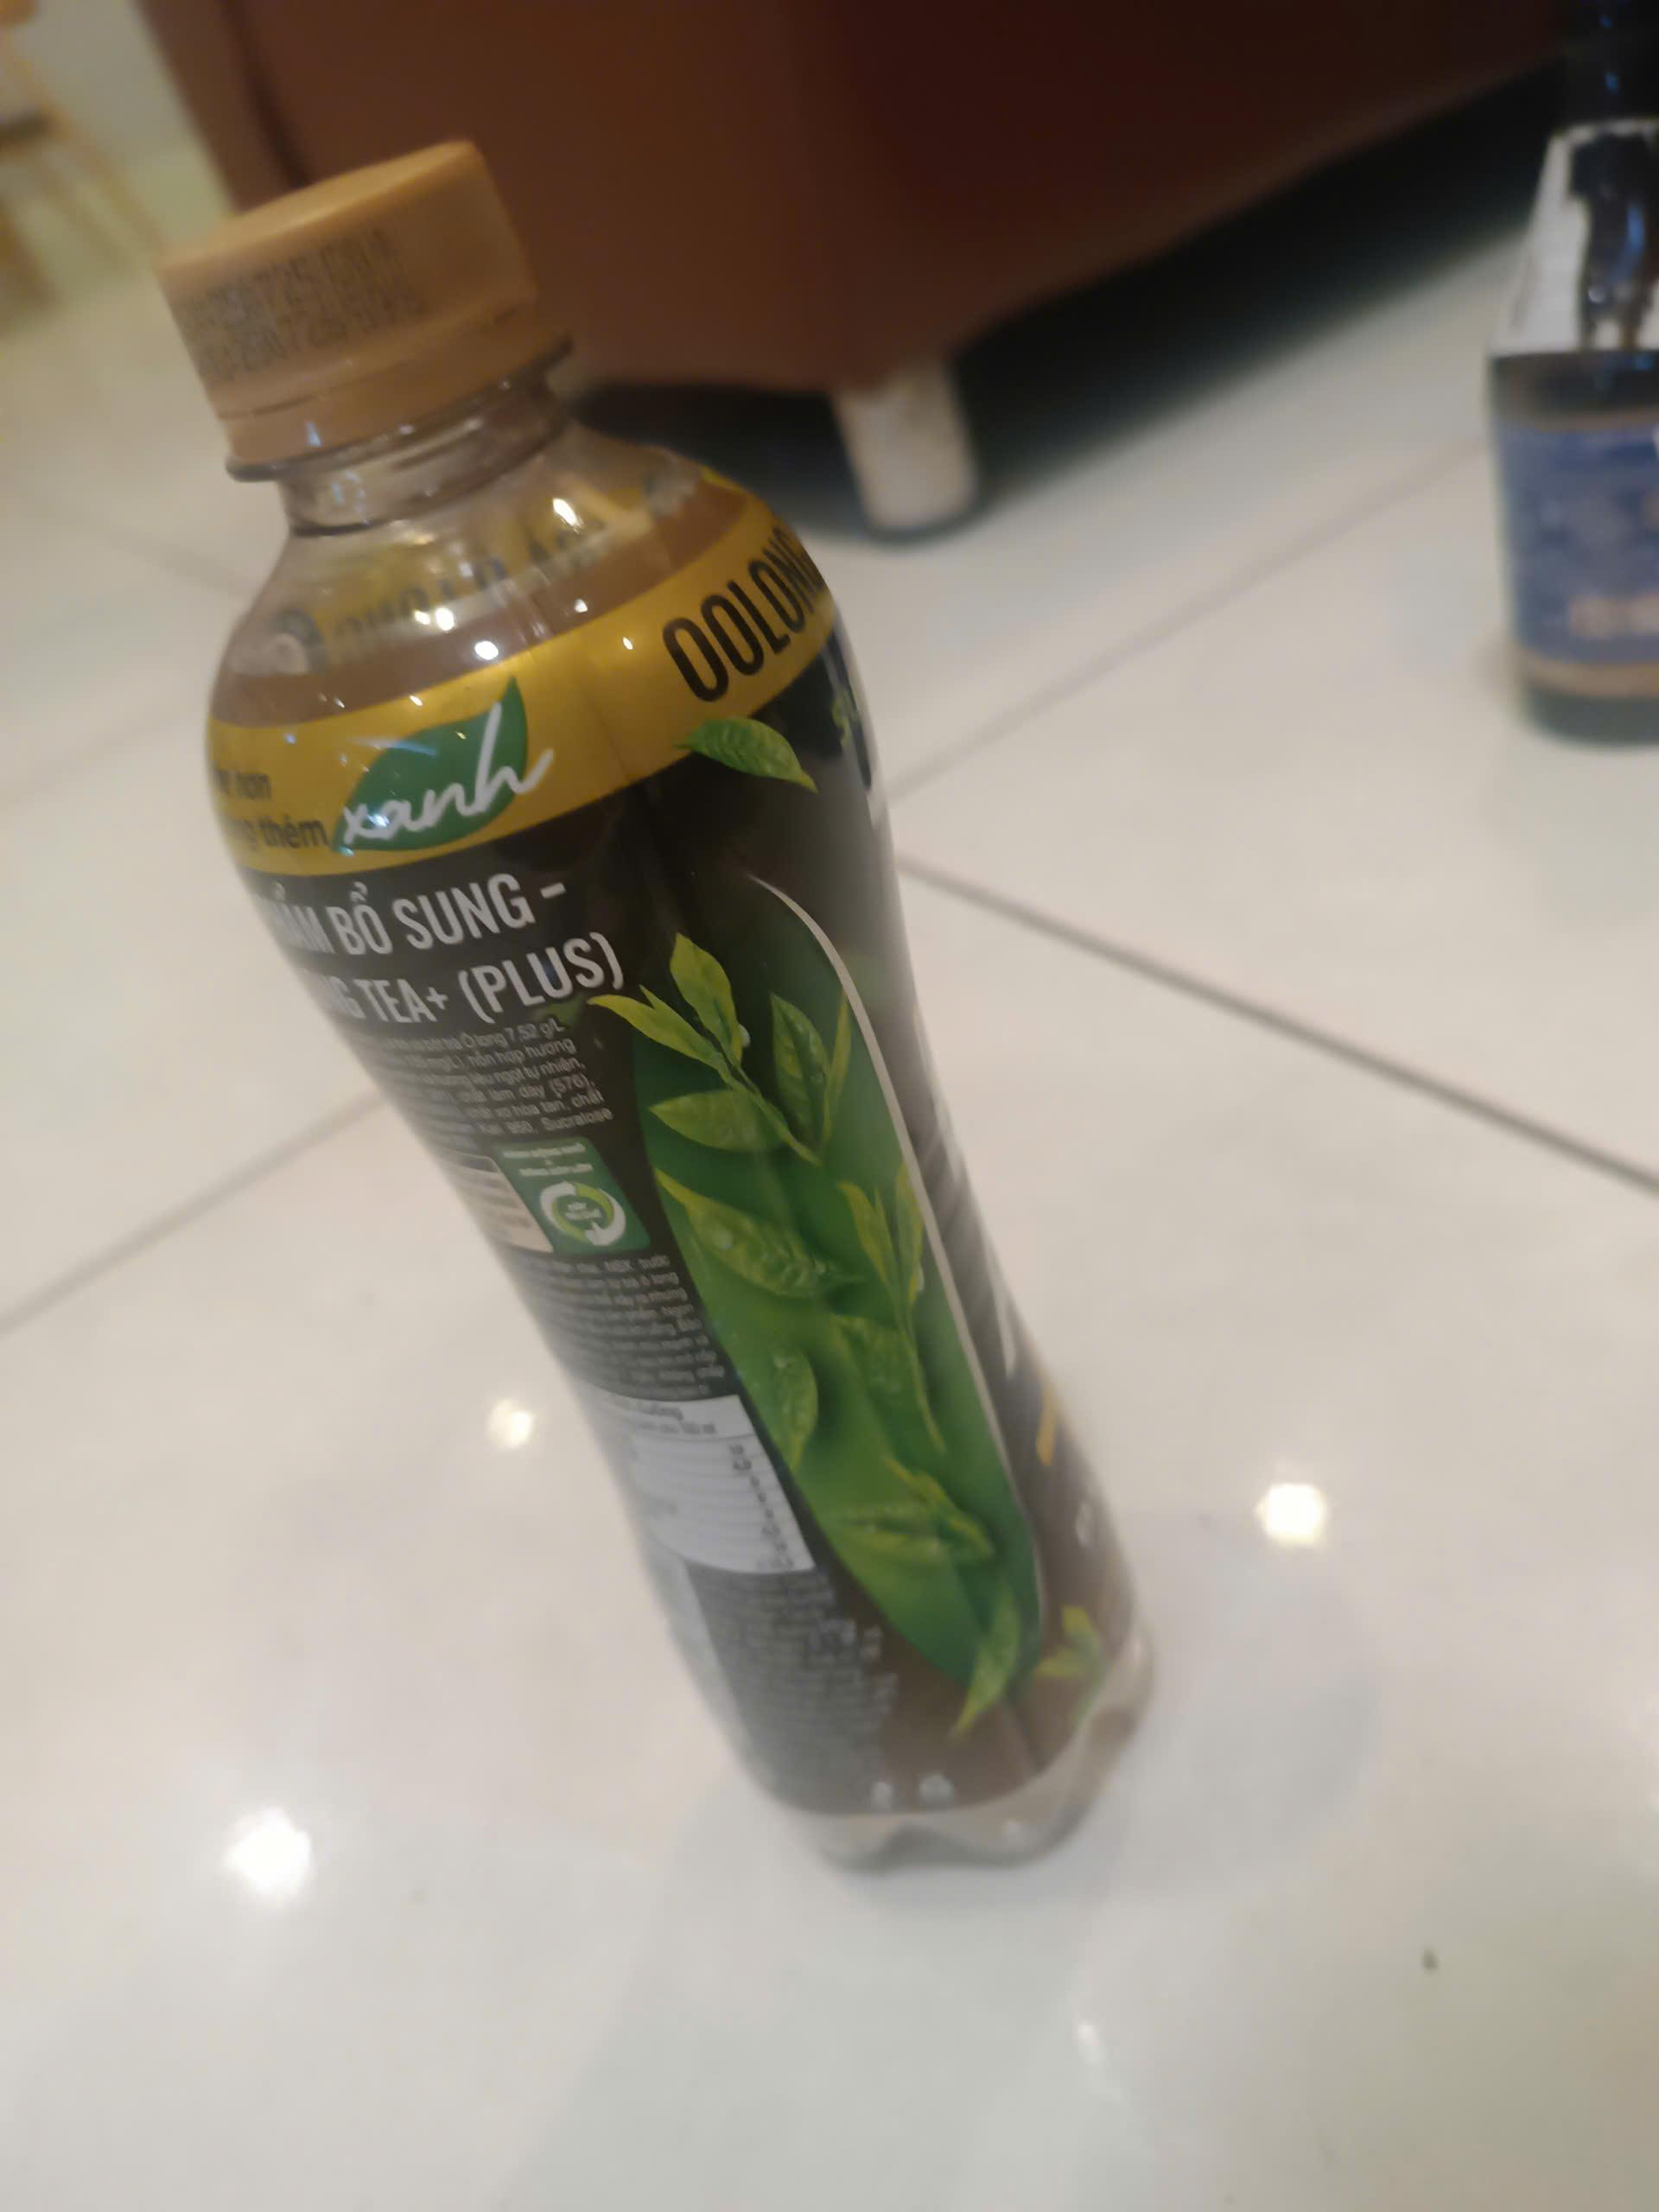Vo co: (155, 139, 1161, 1857)
